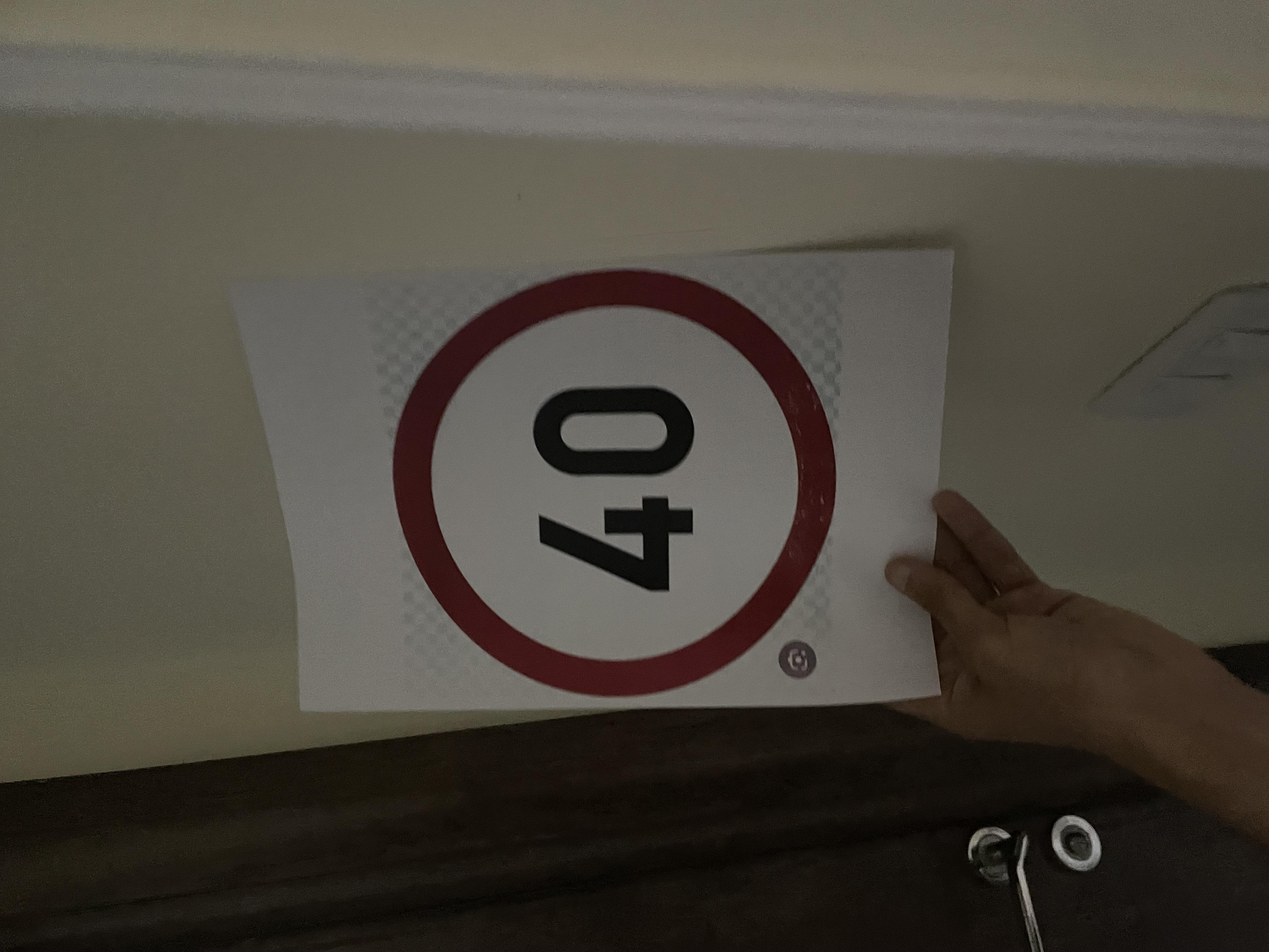40-Speed: (349, 291, 915, 634)
